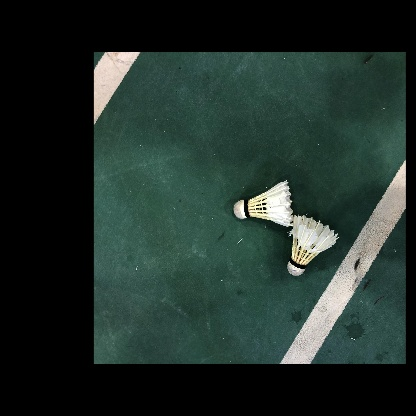ball_single: (287, 215, 338, 276), (233, 180, 294, 226)
